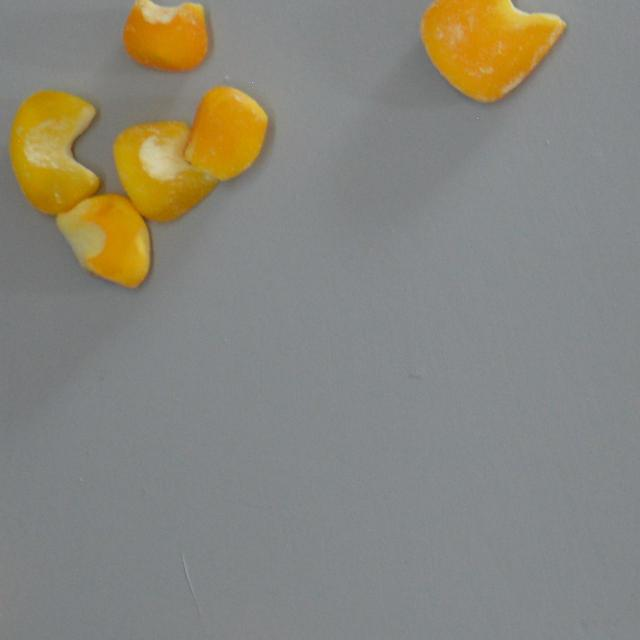no_canjicado: (8, 89, 100, 215), (112, 118, 214, 222), (58, 194, 152, 290), (184, 85, 266, 181), (123, 0, 208, 72)
pelicula: (420, 0, 566, 102)
